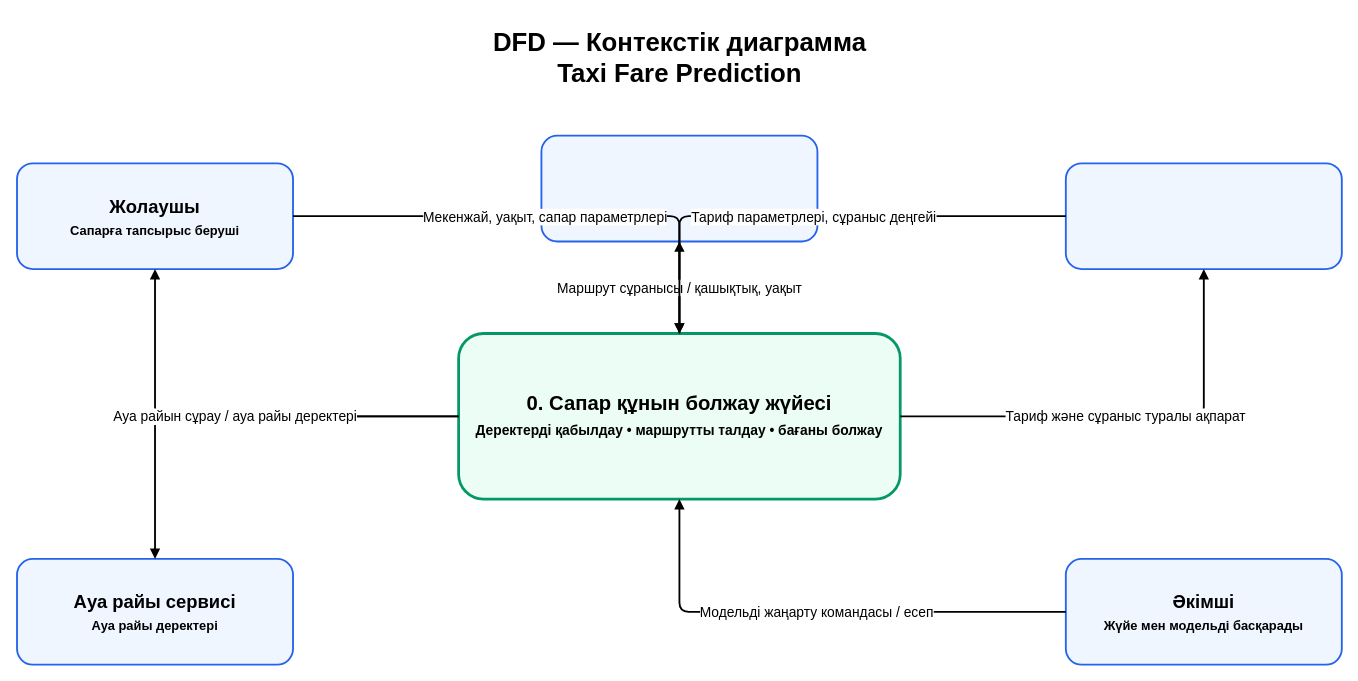
Image size: 1358x681. Some labels were removed from this diagram. The centre of each missing label's shape, as x and y in pixels:
"Диспетчер Тариф пен сұранысты басқарады" belongs at point (1203, 216).
"Карта сервисі Маршрут және қашықтық" belongs at point (679, 188).
